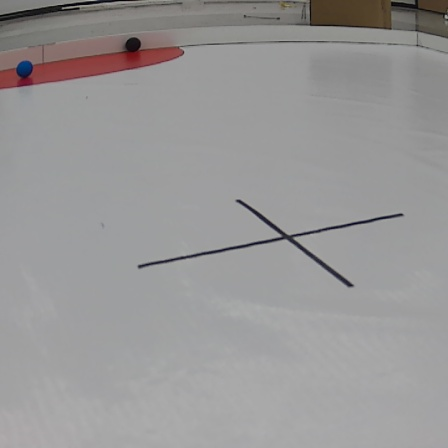black: (125, 37, 144, 51)
blue: (15, 59, 32, 77)
red_base: (0, 44, 187, 87)
